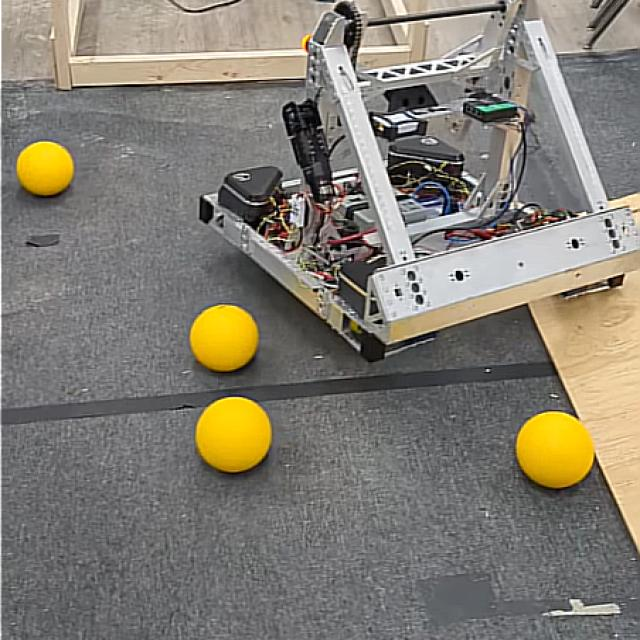Fuel: (516, 412, 594, 488), (195, 398, 272, 473), (196, 397, 270, 472), (190, 304, 256, 370), (16, 140, 74, 197), (17, 142, 72, 195)
